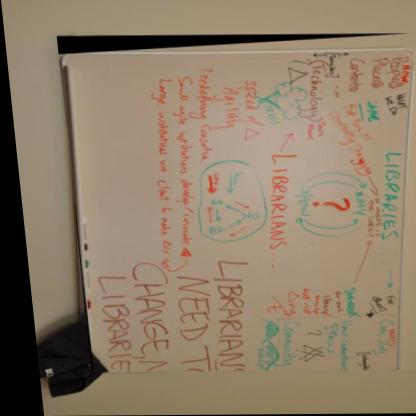Handwritten text: (315, 92, 392, 185), (199, 257, 256, 373), (120, 264, 169, 374), (163, 272, 212, 376), (149, 72, 173, 270), (86, 270, 128, 373), (169, 71, 193, 248), (259, 148, 295, 253), (342, 54, 413, 96), (374, 147, 400, 245), (186, 72, 212, 165), (358, 86, 412, 126), (314, 319, 349, 374), (208, 82, 242, 137), (297, 60, 323, 123), (234, 75, 262, 131), (267, 318, 294, 375), (363, 317, 393, 359), (362, 285, 396, 316), (333, 285, 359, 324), (361, 195, 379, 241), (342, 189, 366, 220), (298, 121, 327, 146), (286, 192, 311, 219), (324, 284, 339, 317), (312, 288, 326, 320), (225, 168, 245, 190), (206, 169, 219, 188)
Whiteboard: (57, 50, 413, 381)
